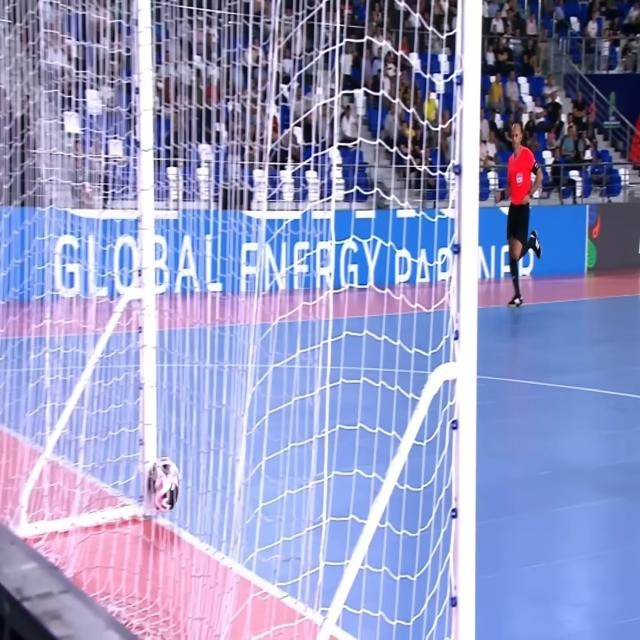Field: (0, 306, 640, 634)
Goal: (0, 0, 475, 638)
Referee: (506, 122, 540, 310)
